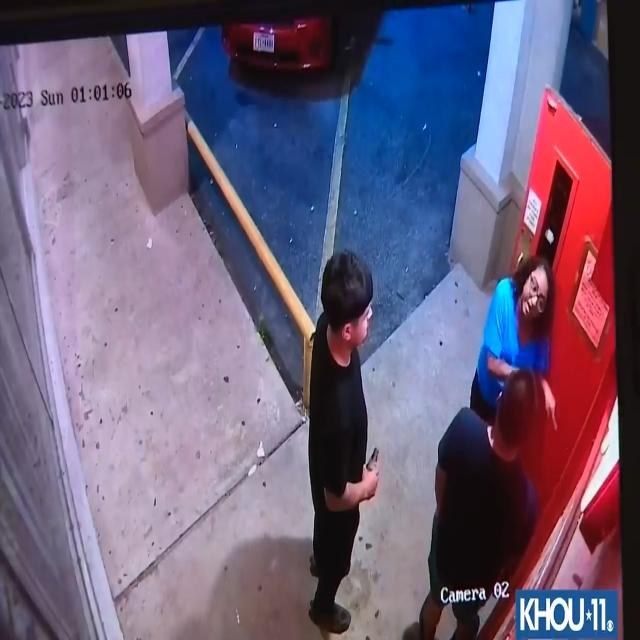Person: (423, 366, 538, 640), (305, 250, 384, 636), (476, 250, 560, 434)
